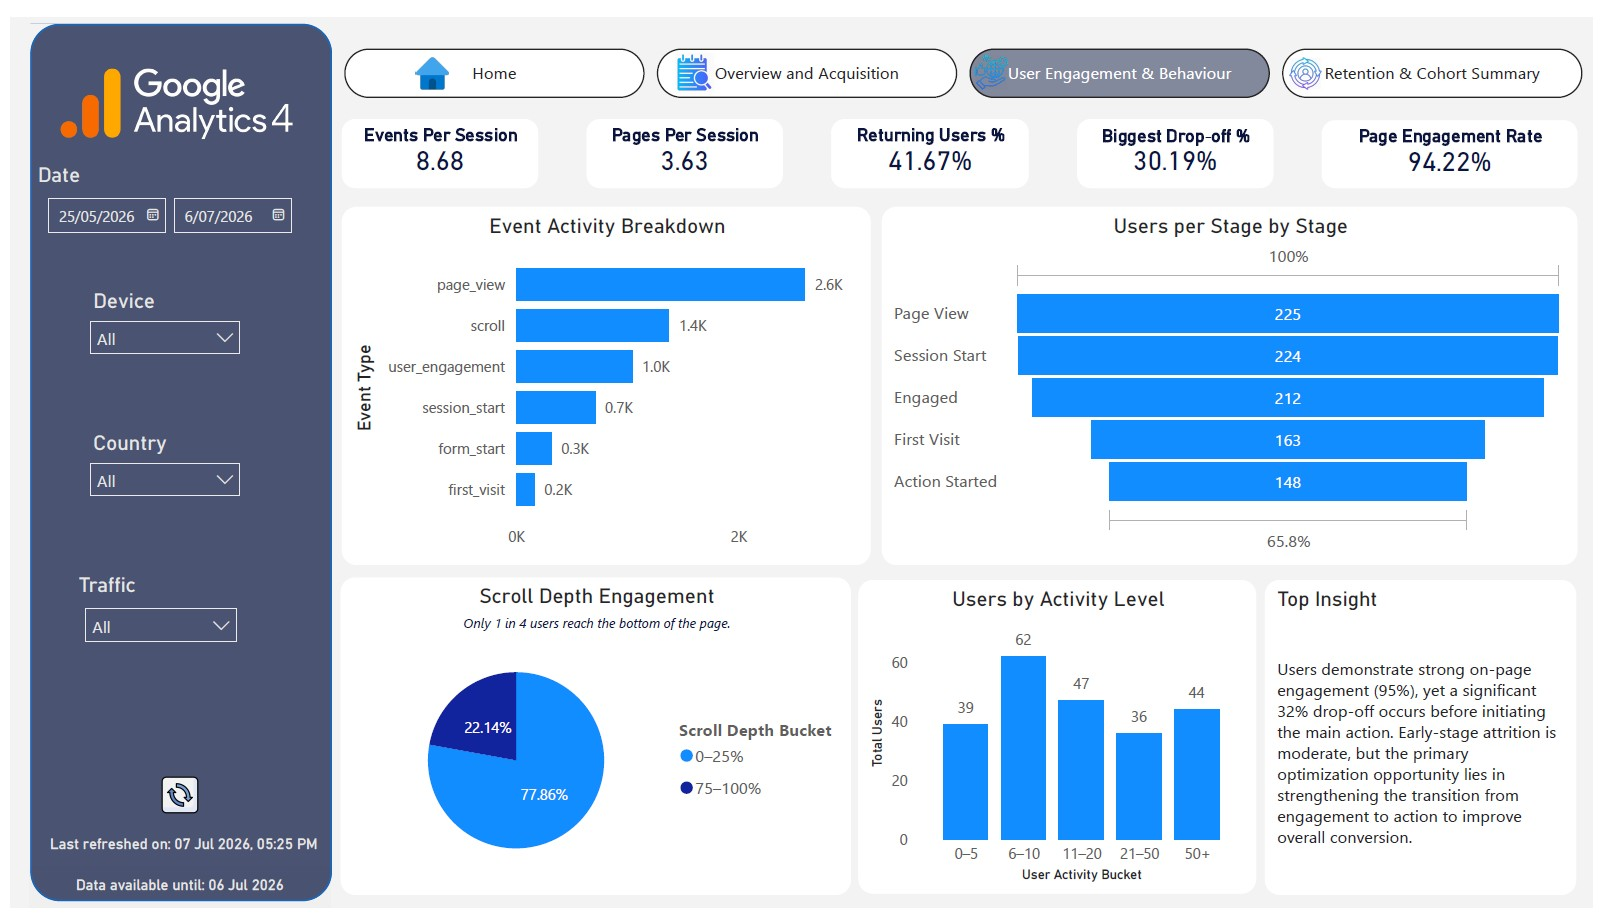

This screenshot's page, from the dashboard's own definition file:
{"tool":"powerbi","page":{"name":"User Engagement & Behaviour","canvas":[1280,720],"ordinal":2},"visuals":[{"type":"shape","box":[11,0,254,720],"z":0},{"type":"slicer","fields":{"Values":["Events.channel_group"]},"box":[53.6,213.9,142.7,78.2],"z":2000},{"type":"slicer","fields":{"Values":["Events.country"]},"box":[53.6,328.8,142.7,78.2],"z":3000},{"type":"slicer","title":"Date","fields":{"Values":["Calendar.Date"]},"box":[17.3,117.3,235.5,60],"z":4000},{"type":"slicer","title":"Traffic ","fields":{"Values":["Events.channel_group"]},"box":[50,443.6,142.7,78.2],"z":5000},{"type":"card","title":"Events Per Session","fields":{"Values":["Measure.Events per Session"]},"box":[267.5,82.1,159.6,56.2],"z":6000},{"type":"card","title":"Pages Per Session","fields":{"Values":["Measure.Pages per Session"]},"box":[465.9,82.1,159.6,56.2],"z":7000},{"type":"card","title":"Returning Users %","fields":{"Values":["Measure.Returning Users %"]},"box":[664.2,82.1,159.6,56.2],"z":8000},{"type":"clusteredBarChart","title":"Event Activity Breakdown","fields":{"Category":["Events.event_name"],"Y":["Measure.Total Events"]},"box":[267.5,153.2,428,290.2],"z":9000},{"type":"pieChart","title":"Scroll Depth Engagement","fields":{"Category":["Events.Scroll Depth Bucket"],"Y":["Measure.Scroll Events Count"]},"box":[267.3,452.7,412.7,257.3],"z":10000},{"type":"clusteredColumnChart","title":"Users by Activity Level","fields":{"Y":["Measure.Total Users"],"Category":["Events.Event Frequency Bucket"]},"box":[686.4,454.5,321.8,254.5],"z":11000},{"type":"textbox","title":"Top Insight","box":[1015.5,454.5,251.8,255.5],"z":12000},{"type":"card","fields":{"Values":["Measure.Last Refresh Time"]},"box":[17.2,653.8,245.7,33.6],"z":13000},{"type":"card","title":"Data Available until","fields":{"Values":["Measure.BigQuery Data Available Until"]},"box":[14.5,687.4,244.8,32.6],"z":14000},{"type":"image","box":[121.5,612.1,30.8,33.6],"z":15000},{"type":"funnel","fields":{"Category":["Events.Stage"],"Y":["Measure.Users per Stage"]},"box":[704.6,153.2,563.1,290.2],"z":16000},{"type":"pageNavigator","box":[264.8,19.9,1015.6,49.9],"z":17000},{"type":"card","title":"Biggest Drop‑off % ","fields":{"Values":["Measure.Biggest Dropoff"]},"box":[862.6,82.1,159.6,56.2],"z":18000},{"type":"image","box":[316.5,31.7,49.9,26.3],"z":19000},{"type":"card","title":"Page Engagement Rate","fields":{"Values":["Measure.Page Engagement Rate"]},"box":[1061,82.5,206.8,55.3],"z":20000},{"type":"image","box":[1031,31.7,33.6,26.3],"z":21000},{"type":"image","box":[779.8,29.9,27.2,28.1],"z":22000},{"type":"image","box":[534.1,28.1,38.1,32.6],"z":23000},{"type":"image","box":[4.5,10.9,272,117.9],"z":23001}]}

Visuals, with their boxes in screenshot pixels (x1, y1, x2, y2), scaled from the page's 1280x720 canvas onto the 1601x922 screenshot:
shape: (x1=14, y1=0, x2=331, y2=921)
slicer - Events.channel_group: (x1=67, y1=274, x2=246, y2=374)
slicer - Events.country: (x1=67, y1=421, x2=246, y2=521)
"Date" slicer: (x1=22, y1=150, x2=316, y2=227)
"Traffic " slicer: (x1=63, y1=568, x2=241, y2=668)
"Events Per Session" card: (x1=335, y1=105, x2=534, y2=177)
"Pages Per Session" card: (x1=583, y1=105, x2=782, y2=177)
"Returning Users %" card: (x1=831, y1=105, x2=1030, y2=177)
"Event Activity Breakdown" clusteredBarChart: (x1=335, y1=196, x2=870, y2=568)
"Scroll Depth Engagement" pieChart: (x1=334, y1=580, x2=851, y2=909)
"Users by Activity Level" clusteredColumnChart: (x1=859, y1=582, x2=1261, y2=908)
"Top Insight" textbox: (x1=1270, y1=582, x2=1585, y2=909)
card - Measure.Last Refresh Time: (x1=22, y1=837, x2=329, y2=880)
"Data Available until" card: (x1=18, y1=880, x2=324, y2=921)
image: (x1=152, y1=784, x2=190, y2=827)
funnel - Events.Stage x Measure.Users per Stage: (x1=881, y1=196, x2=1586, y2=568)
pageNavigator: (x1=331, y1=25, x2=1600, y2=89)
"Biggest Drop‑off % " card: (x1=1079, y1=105, x2=1279, y2=177)
image: (x1=396, y1=41, x2=458, y2=74)
"Page Engagement Rate" card: (x1=1327, y1=106, x2=1586, y2=176)
image: (x1=1290, y1=41, x2=1332, y2=74)
image: (x1=975, y1=38, x2=1009, y2=74)
image: (x1=668, y1=36, x2=716, y2=78)
image: (x1=6, y1=14, x2=346, y2=165)
